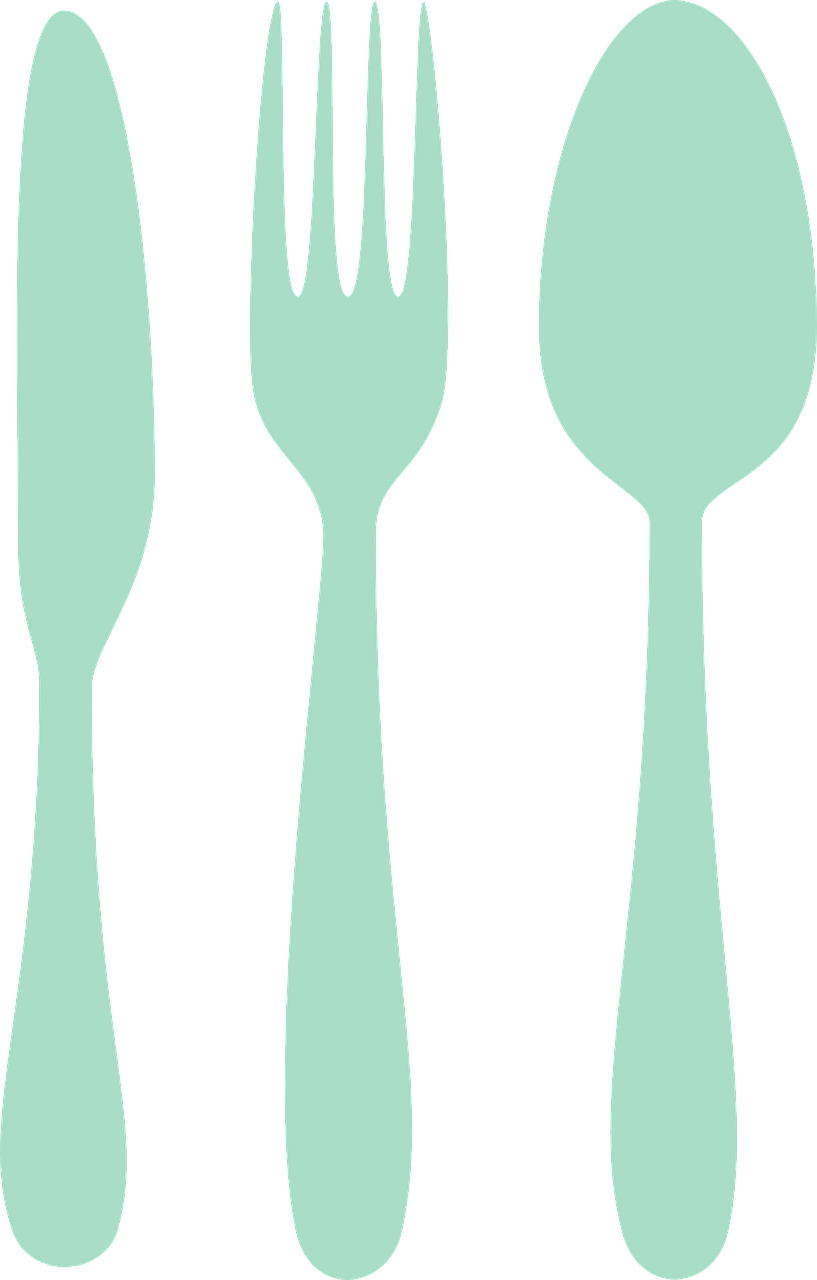knife: (0, 2, 163, 1269)
